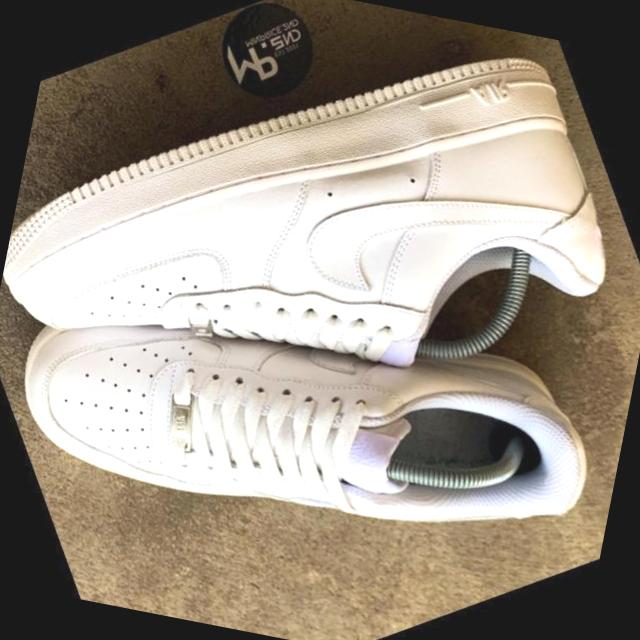nike_original_airforce: (0, 0, 640, 598), (0, 94, 640, 640)
